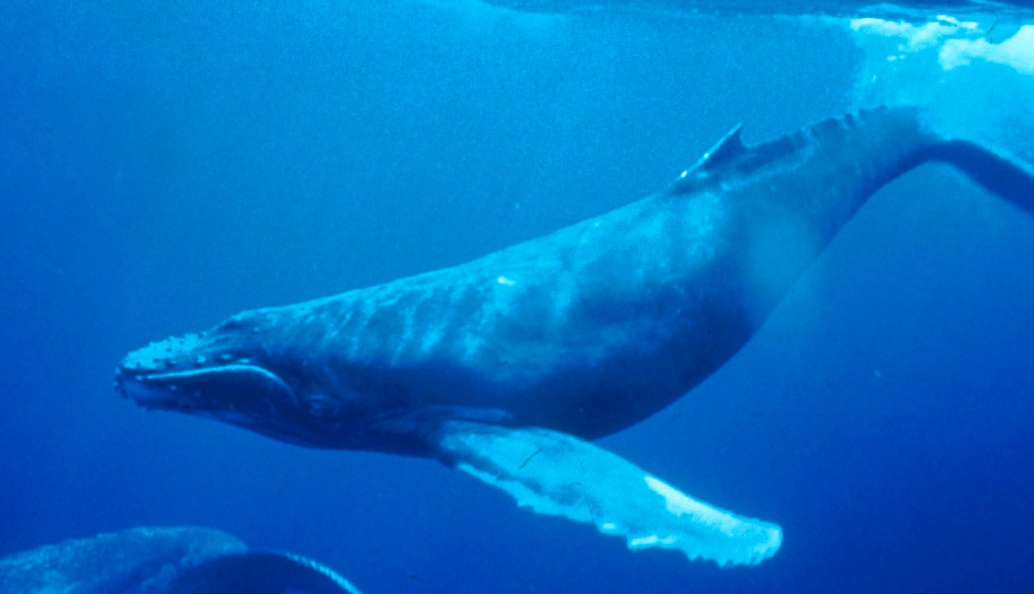humpback: (114, 108, 922, 455)
